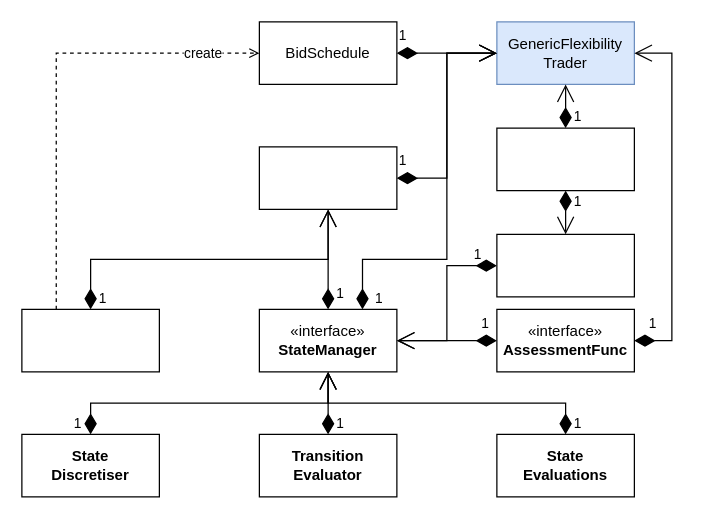
This 715x519 diagram has some shape labels left out. The box of each missing label's shape, as (x1, y1, x2, y2) in pixels:
GenericDevice: (496, 127, 634, 191)
GenericDevice Cache: (496, 233, 634, 297)
Optimiser: (258, 146, 397, 209)
«interface» BidScheduler: (21, 308, 159, 372)
